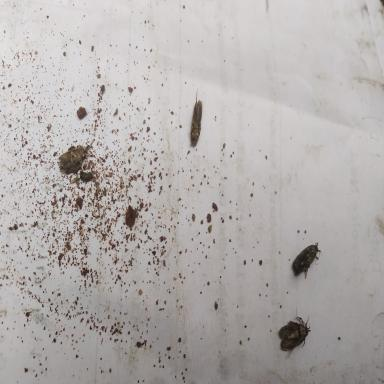pbw: (278, 306, 312, 358), (292, 242, 322, 280), (190, 87, 201, 147)
